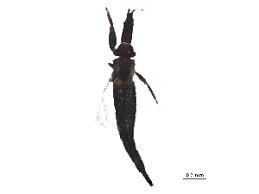Phlaeothripidae: (98, 7, 166, 188)
